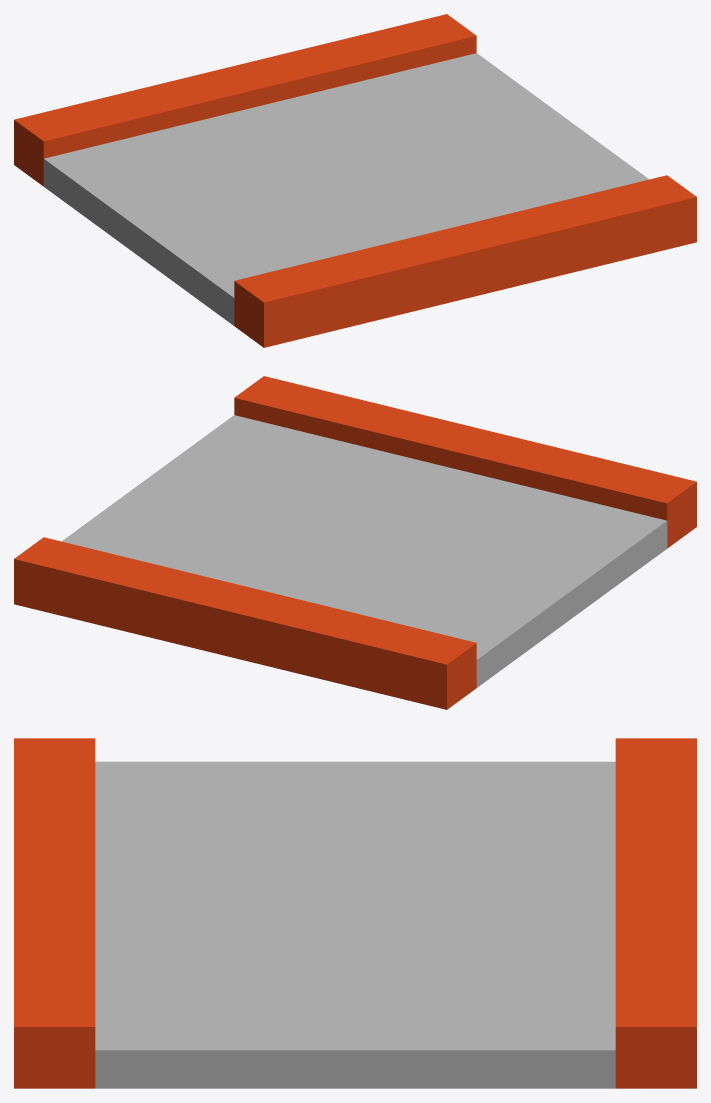
Rendered from red_straight.fbx.
3 renders of one model, top to bottom at view 1: azimuth 30°, elevation 25°; view 2: azimuth 150°, elevation 25°; view 3: azimuth 270°, elevation 25°, orthographic. The views are drawn at different scales.
Visible parts, largest first — view 1: red_straight; view 2: red_straight; view 3: red_straight.
Boxes of the visible parts, x1,y1,x2,y2 form: red_straight: (14, 14, 696, 347); red_straight: (14, 376, 696, 709); red_straight: (14, 738, 696, 1088).
Size of the model in its own units: 1 by 0.1 by 1.
Materials: 1 (1 with a texture image).
